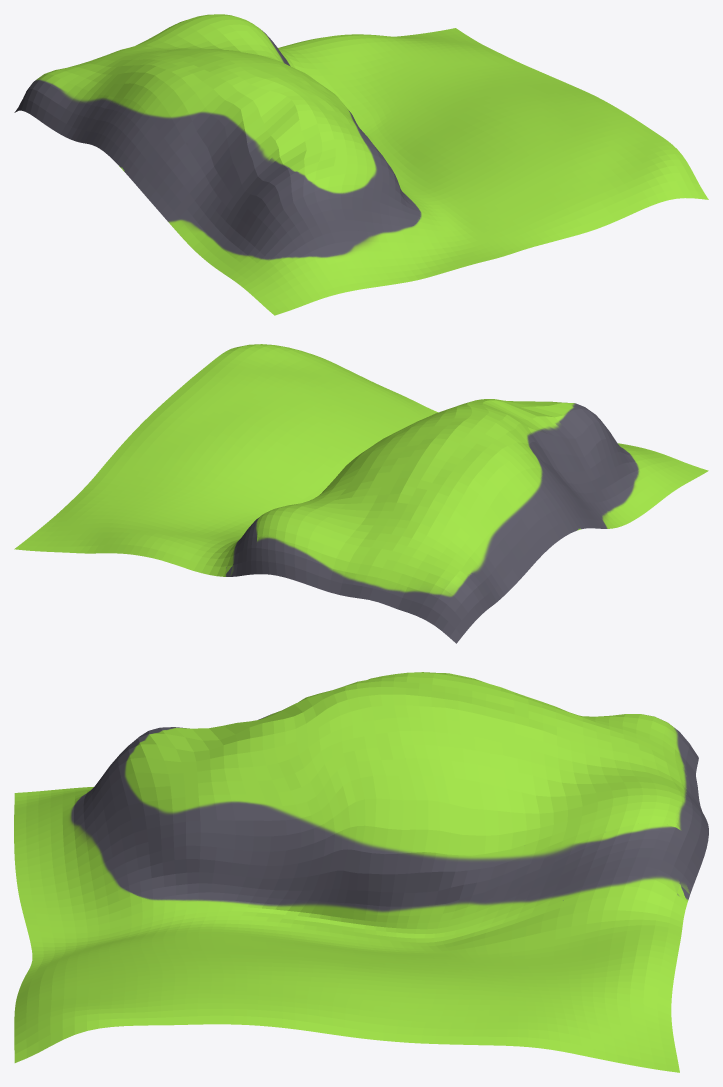
File: terrain2.glb
3 renders of one model, top to bottom at view 1: azimuth 30°, elevation 25°; view 2: azimuth 150°, elevation 25°; view 3: azimuth 270°, elevation 25°, orthographic. The views are drawn at different scales.
Visible parts, largest first — view 1: Plane; view 2: Plane; view 3: Plane.
Part boxes in pixels (box(x1,y1,x2,y2)): Plane: box(14, 14, 708, 315); Plane: box(14, 344, 708, 643); Plane: box(14, 672, 708, 1072).
Bounding box in the file's own units: 20.66 × 5.58 × 20.73.
Materials: 1 (1 with a texture image).
